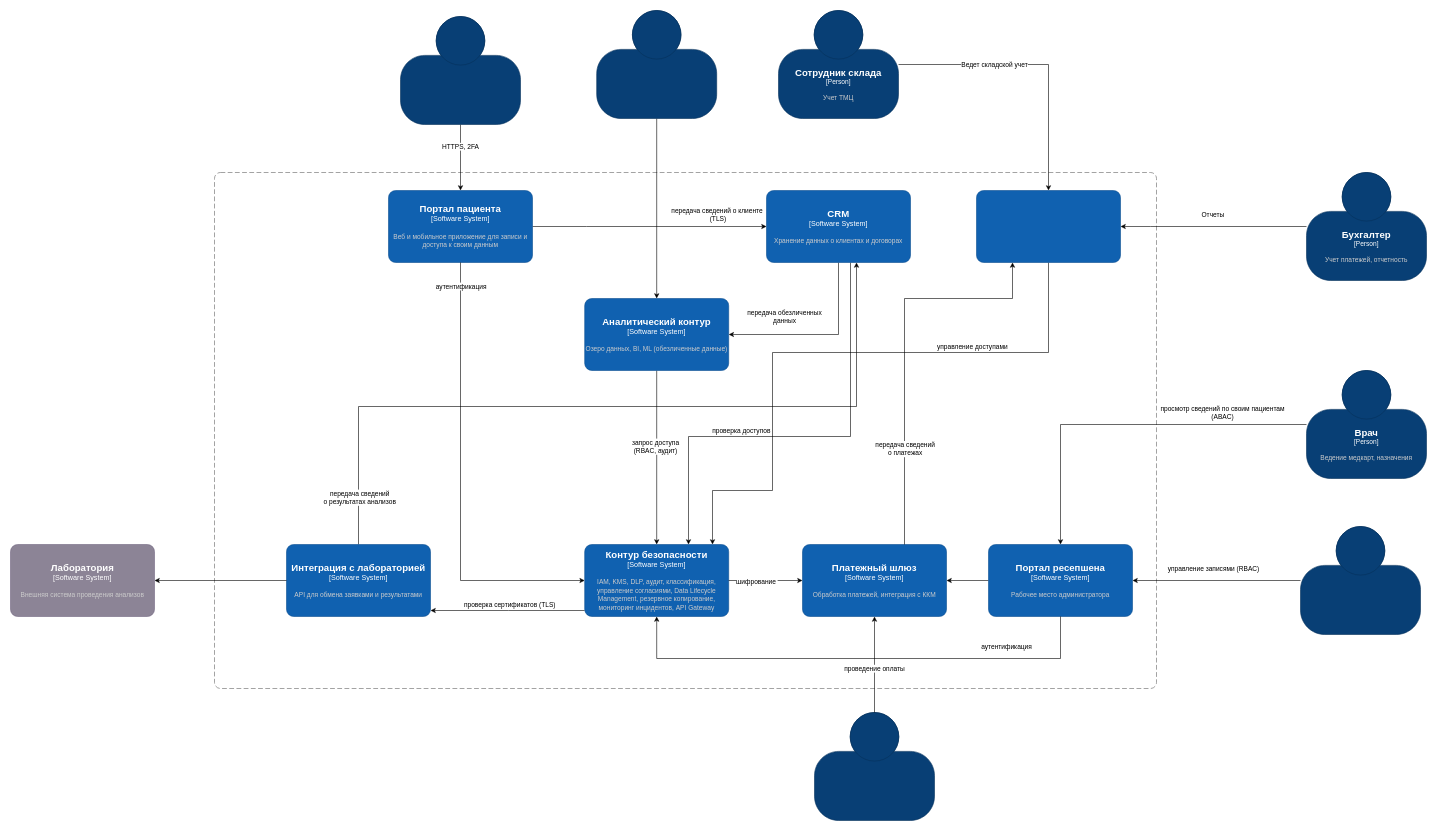
Image size: 1437x831. Some labels were removed from this diagram. The box of each missing label's shape, as (x1, y1, x2, y2) in pixels:
1C [Software System] 1С: Бухгалтерия, Склад: (976, 190, 1120, 262)
medicamente (to be) [Software System]: (214, 172, 1156, 688)
Аналитик [Person] Работа с BI/ML, доступ только к обезличенным данным: (596, 10, 717, 118)
Кассир [Person] работа с кассой, прием платежей: (814, 712, 934, 820)
Пациент [Person] Клиент медицинского центра: (400, 16, 520, 124)
Сотрудник ресепшена [Person] Ведение расписания и регистрация: (1300, 526, 1420, 634)
